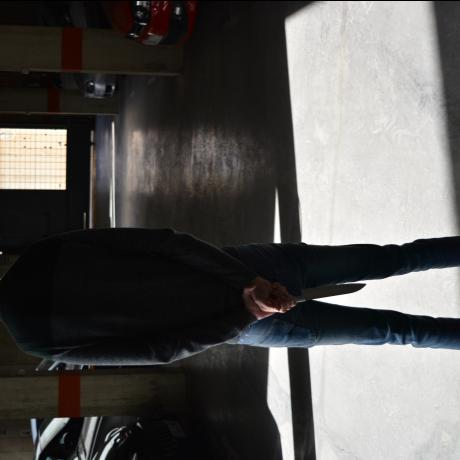1: (0, 224, 460, 366)
weapon: (290, 279, 367, 299)
